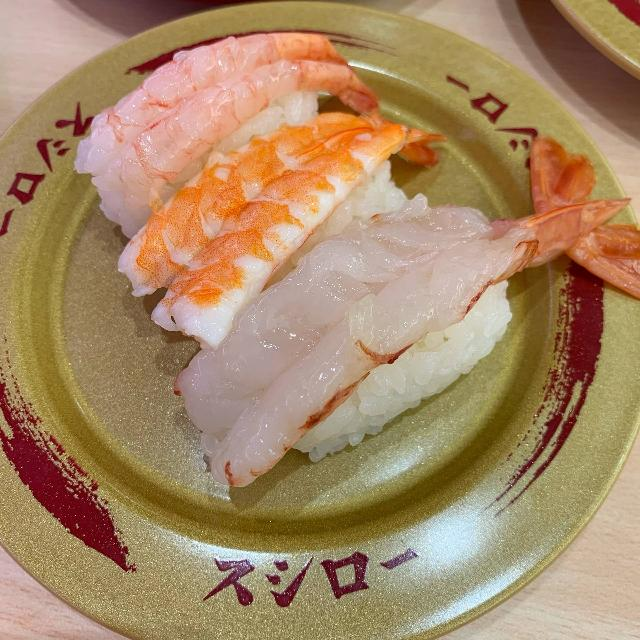jangold: (1, 27, 636, 621), (542, 0, 640, 102)
